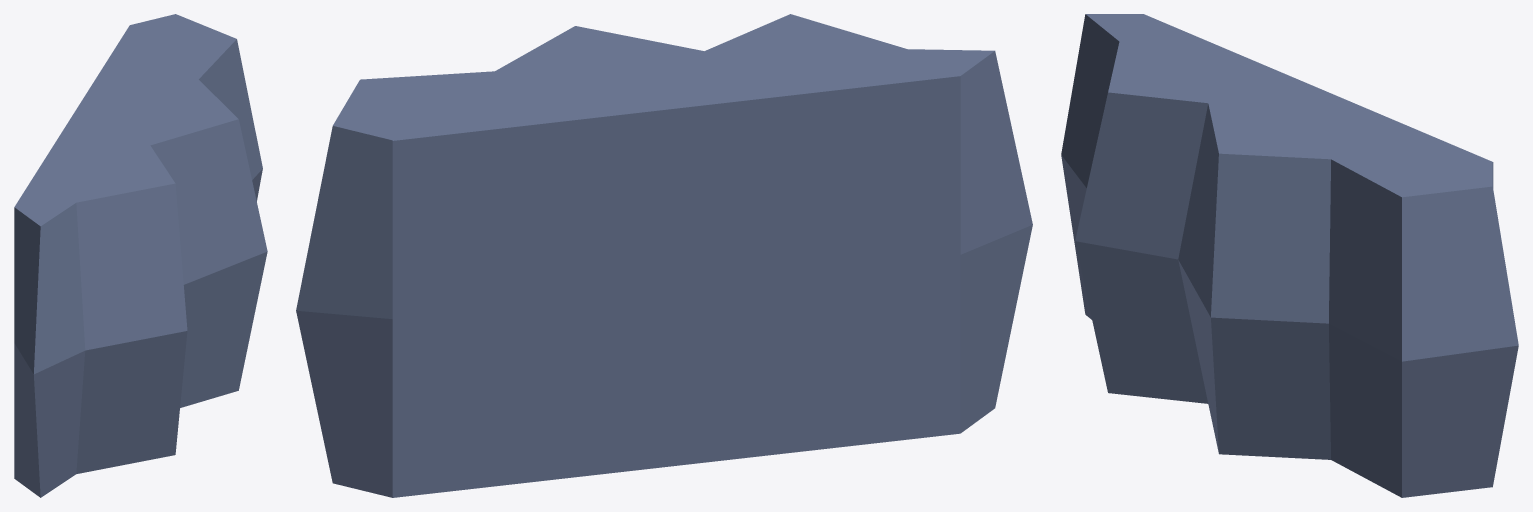
Rendered from floor.378.fbx.
3 views of the same model, side by side, from view 1: azimuth 30°, elevation 25°; view 2: azimuth 150°, elevation 25°; view 3: azimuth 270°, elevation 25° (orthographic). The views are drawn at different scales.
Parts seen in each view (by area): view 1: floor.378; view 2: floor.378; view 3: floor.378.
Part boxes in pixels (x1=…): floor.378: x1=14, y1=14, x2=267, y2=497; floor.378: x1=296, y1=14, x2=1032, y2=497; floor.378: x1=1061, y1=14, x2=1518, y2=497.
Size of the model in its own units: 280 by 190 by 262.
